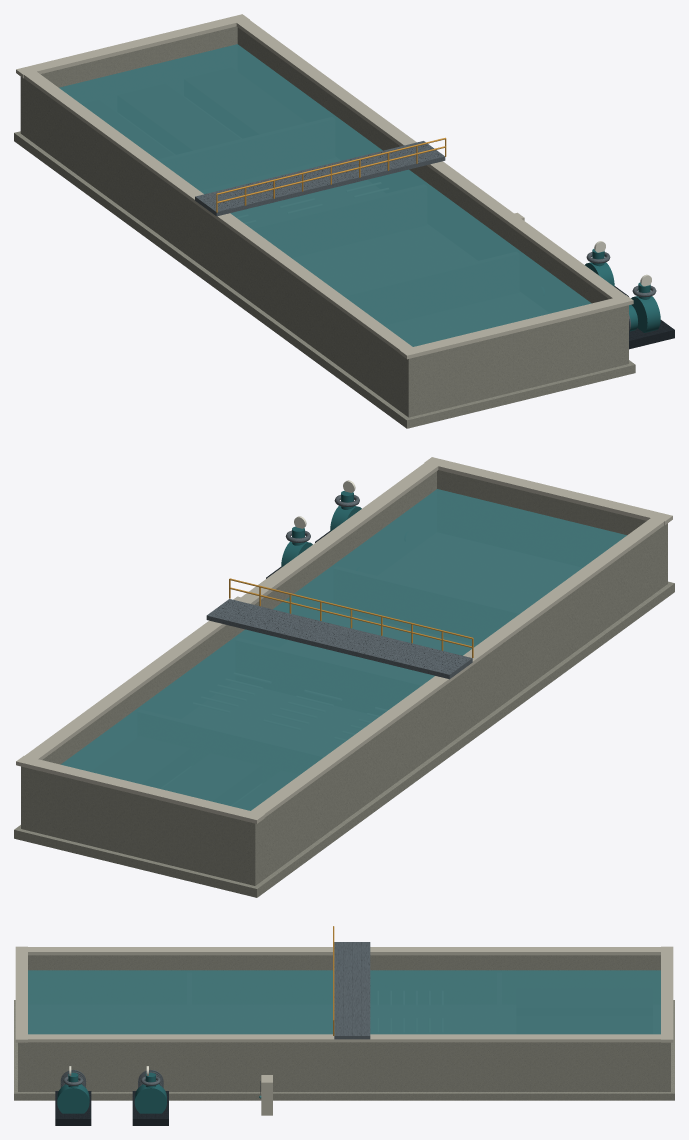
File: water-reuse.19a4324a3914.glb
3 renders of one model, top to bottom at view 1: azimuth 30°, elevation 25°; view 2: azimuth 150°, elevation 25°; view 3: azimuth 270°, elevation 25°, orthographic. The views are drawn at different scales.
Visible parts, largest first — view 1: bounded_free_surface_00007, structure_concrete_00082, structure_cream_00083, structure_steel_00086, structure_teal_00089, structure_yellow_00087, structure_dark_00088; view 2: bounded_free_surface_00007, structure_concrete_00082, structure_cream_00083, structure_steel_00086, structure_yellow_00087, structure_teal_00089; view 3: structure_concrete_00082, bounded_free_surface_00007, structure_cream_00083, structure_steel_00086, structure_teal_00089, structure_dark_00088.
Boxes of the visible parts, x1,y1,x2,y2 form: bounded_free_surface_00007: [59, 44, 591, 346]; structure_concrete_00082: [14, 26, 635, 428]; structure_cream_00083: [16, 14, 633, 359]; structure_steel_00086: [195, 141, 656, 331]; structure_teal_00089: [585, 249, 660, 332]; structure_yellow_00087: [216, 137, 446, 212]; structure_dark_00088: [614, 286, 674, 349]; bounded_free_surface_00007: [61, 489, 626, 810]; structure_concrete_00082: [14, 470, 674, 897]; structure_cream_00083: [16, 457, 672, 823]; structure_steel_00086: [206, 495, 472, 679]; structure_yellow_00087: [229, 578, 473, 657]; structure_teal_00089: [281, 490, 361, 567]; structure_concrete_00082: [14, 955, 674, 1100]; bounded_free_surface_00007: [28, 970, 660, 1034]; structure_cream_00083: [15, 946, 673, 1115]; structure_steel_00086: [60, 942, 370, 1087]; structure_teal_00089: [57, 1071, 166, 1113]; structure_dark_00088: [55, 1081, 260, 1125].
Bounding box in the file's own units: 11.03 × 3.46 × 25.6.
Materials: 9 (3 with a texture image).
